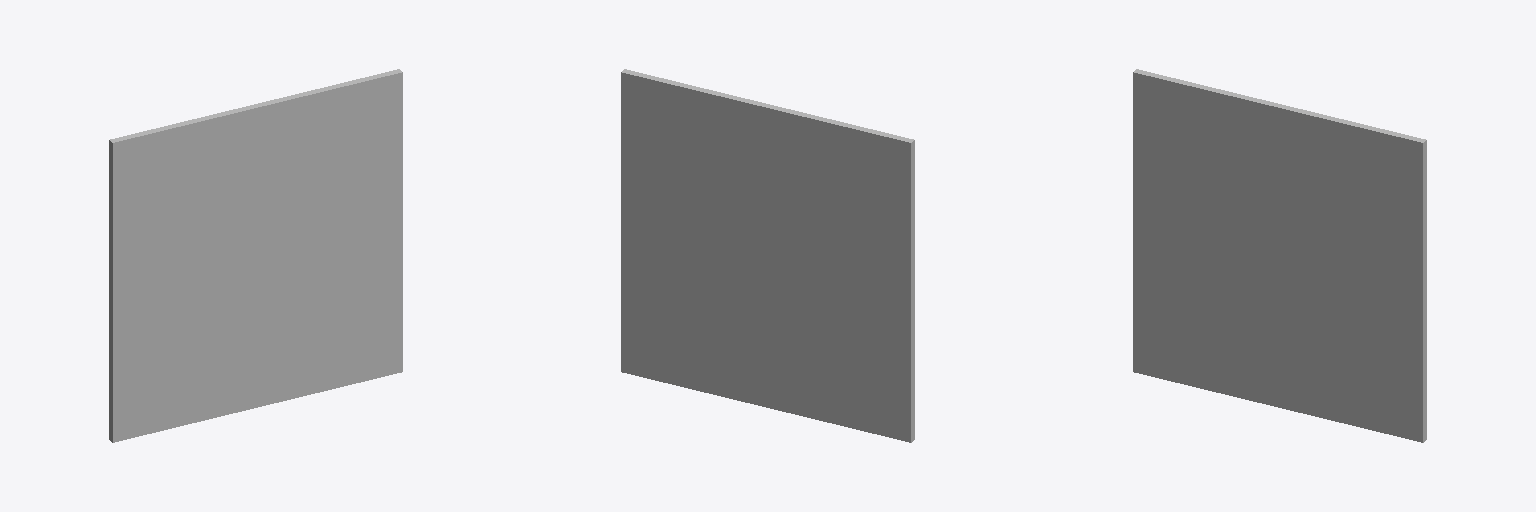
File: muro.obj
The picture shows the model from 3 angles: view 1: azimuth 30°, elevation 25°; view 2: azimuth 150°, elevation 25°; view 3: azimuth 330°, elevation 25°; orthographic projection.
Parts seen in each view (by area): view 1: object 1; view 2: object 1; view 3: object 1.
Part boxes in pixels (x1,y1,x2,y2): object 1: (109,69,402,442); object 1: (621,69,914,442); object 1: (1133,69,1426,442).
Bounding box in the file's own units: 8 × 7.9 × 0.2.